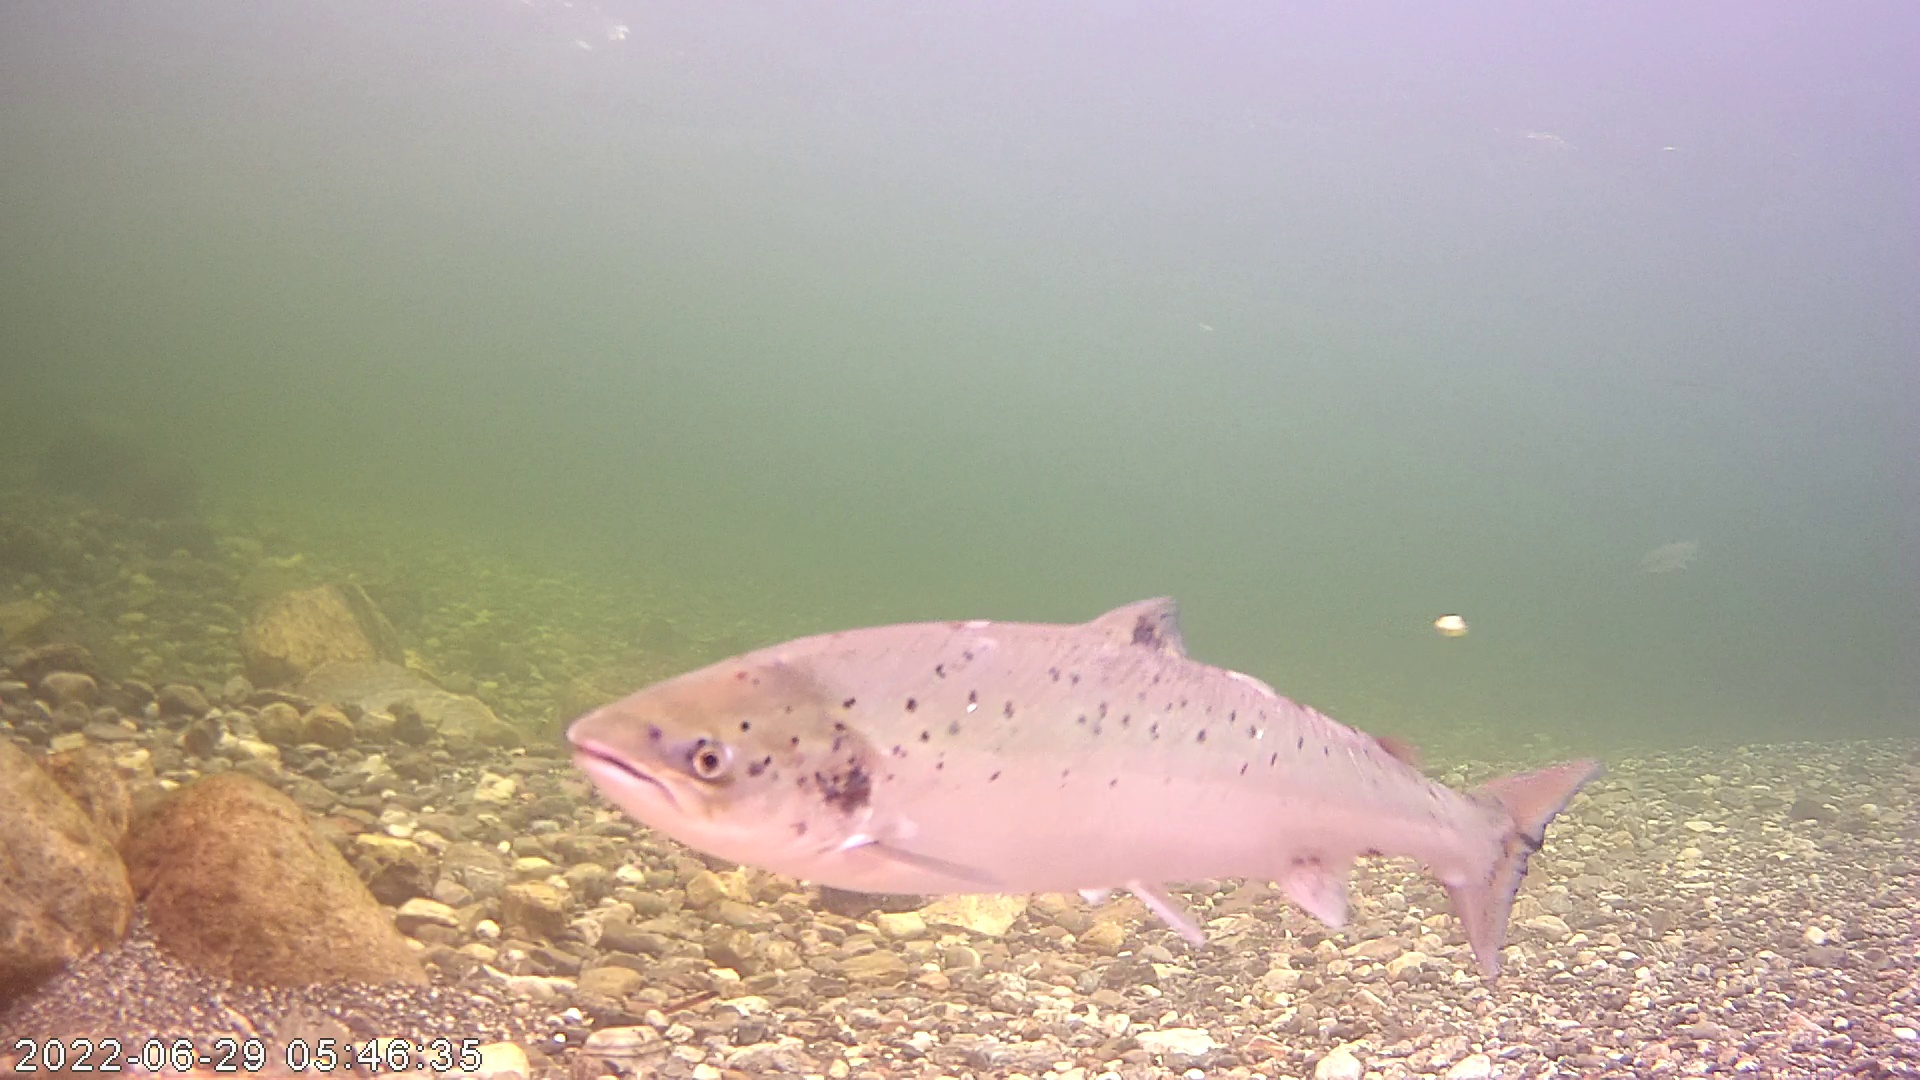salmon: (564, 462, 1575, 971)
